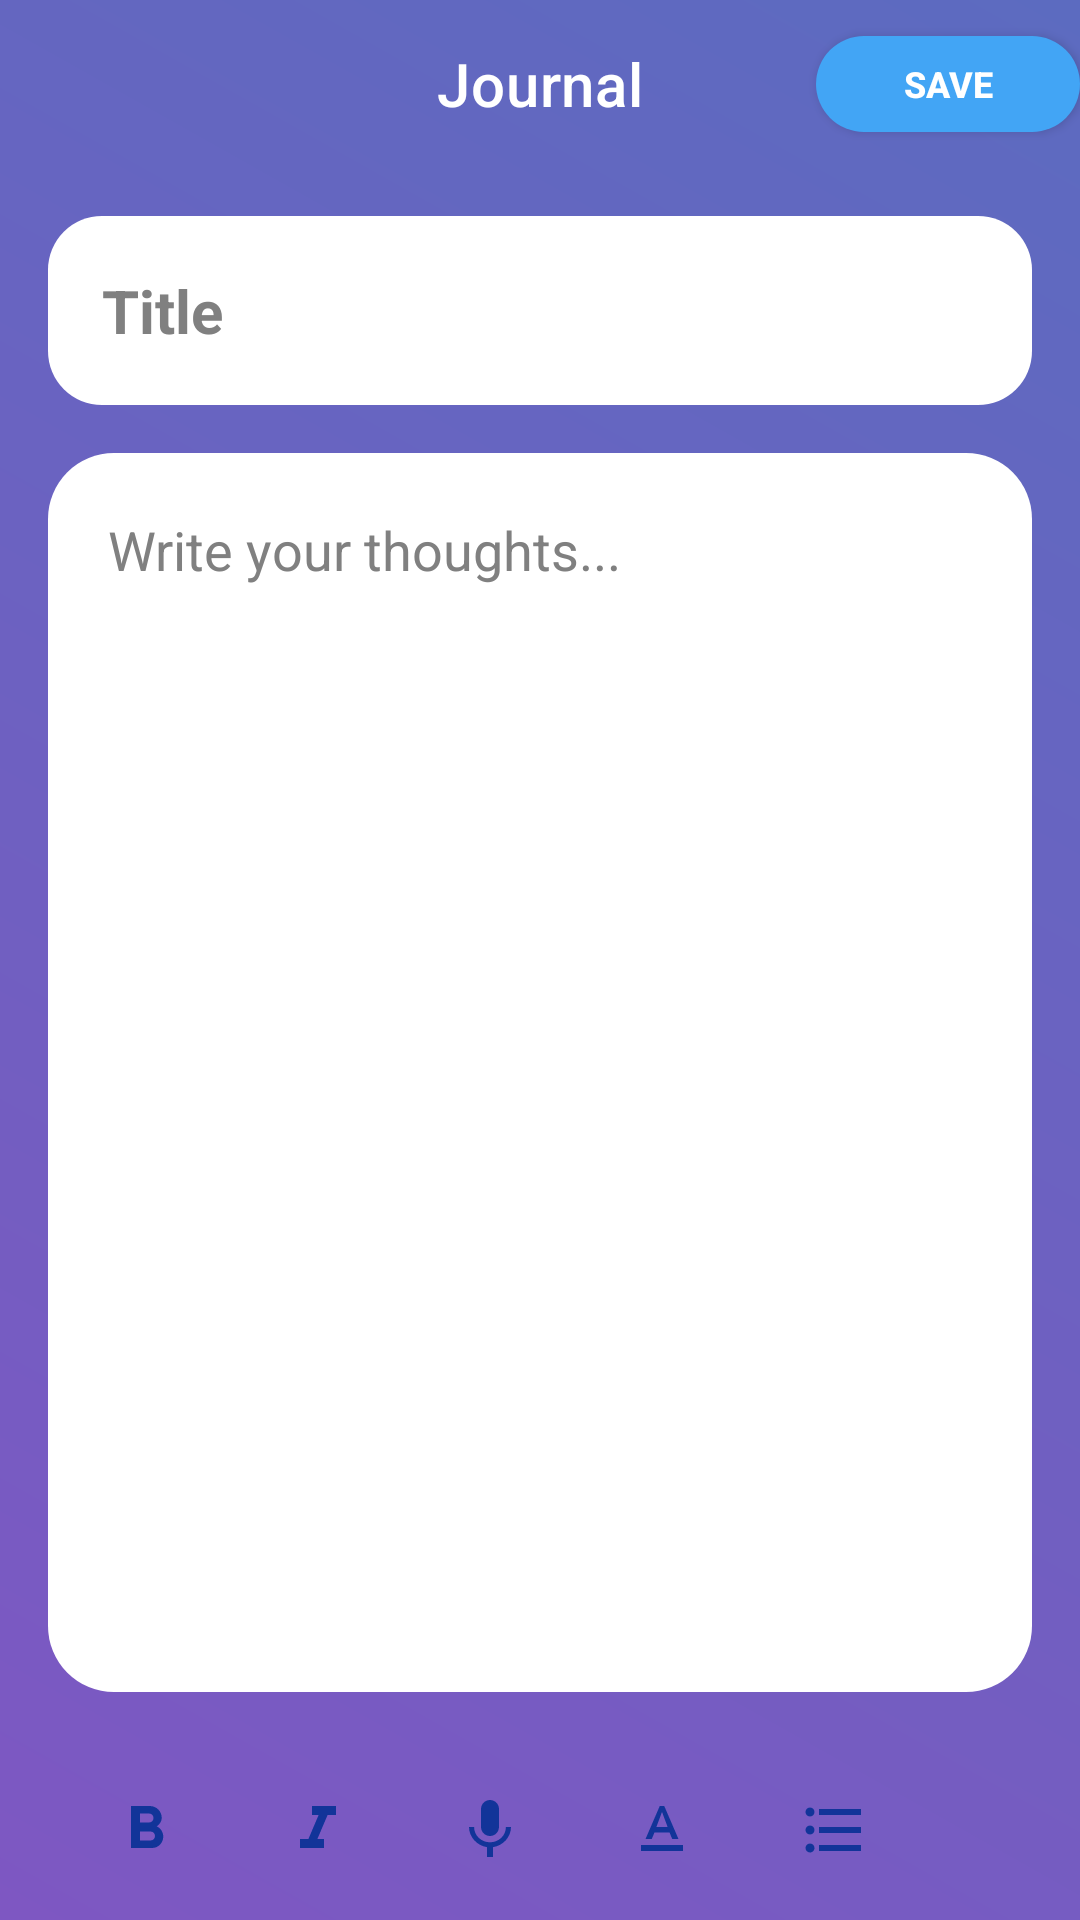

Screen size 1080×1920. Icon name, then its box in pixels as Rect(x1, y1, x2, y2):
format italic: Rect(300, 1806, 336, 1848)
format list bulleted: Rect(805, 1807, 861, 1853)
mic: Rect(469, 1800, 511, 1857)
text format: Rect(641, 1806, 683, 1851)
